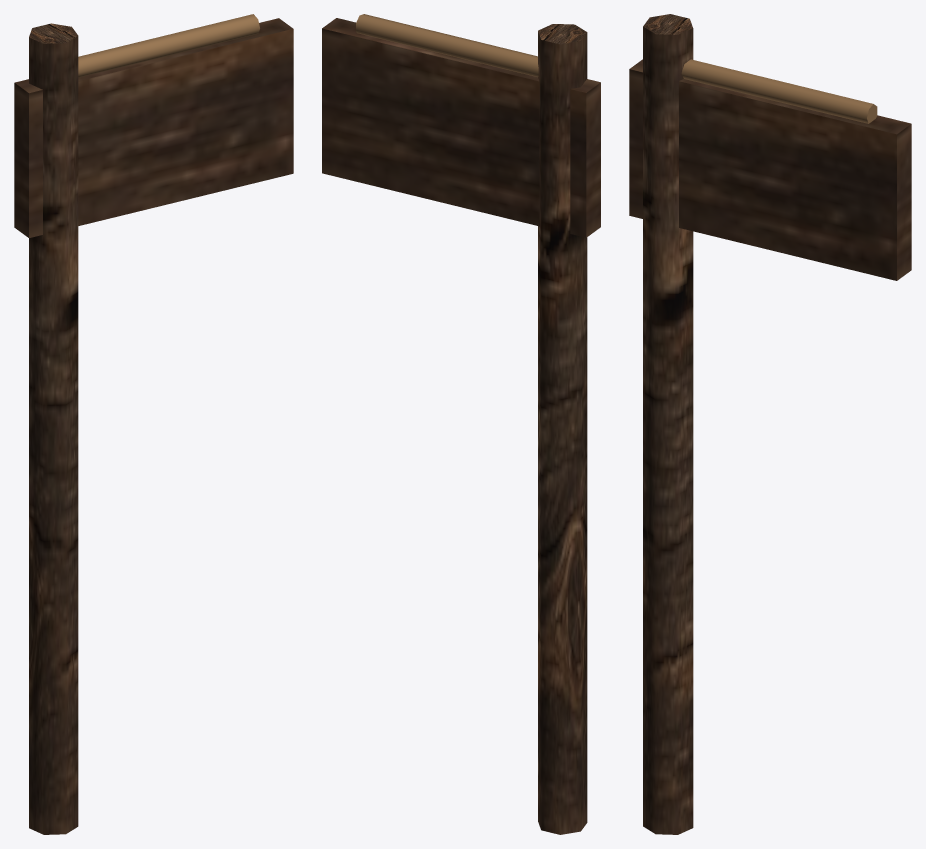
Rendered from signpost.glb.
3 renders of one model, left to right at view 1: azimuth 30°, elevation 25°; view 2: azimuth 150°, elevation 25°; view 3: azimuth 330°, elevation 25°, orthographic.
Visible parts, largest first — view 1: part_0, part_1; view 2: part_0, part_1; view 3: part_0, part_1.
Boxes of the visible parts, x1,y1,x2,y2 form: part_0: (14,18,293,834); part_1: (78,14,259,77); part_0: (322,18,600,834); part_1: (356,14,538,76); part_0: (629,14,911,834); part_1: (681,59,877,123).
Size of the model in its own units: 0.42 by 1.2 by 0.0665.
Materials: 2 (1 with a texture image).
